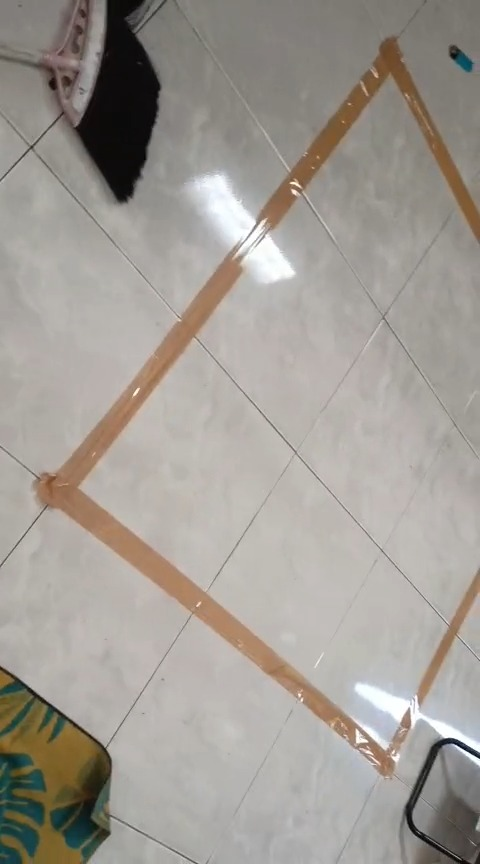floor marking: (37, 38, 479, 776)
